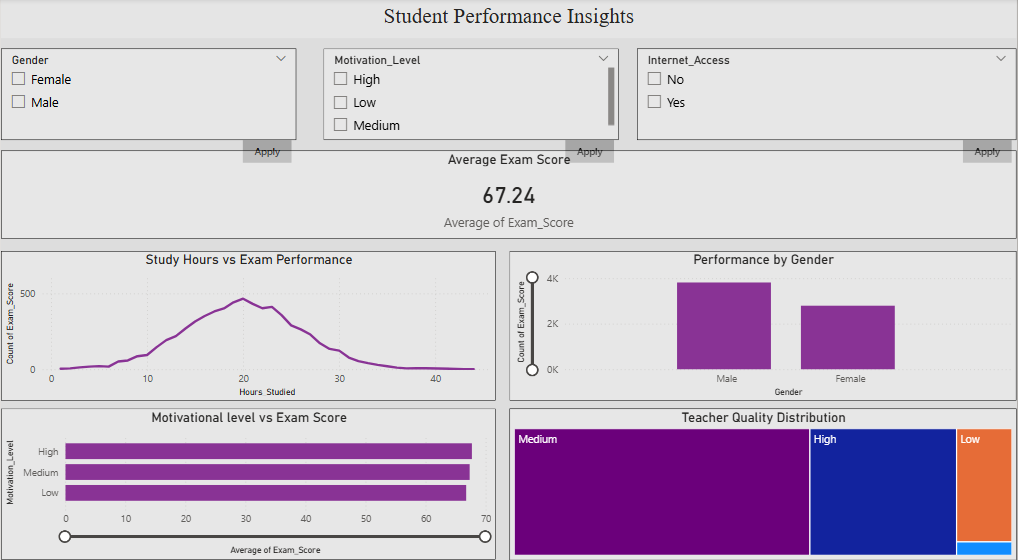

This screenshot's page, from the dashboard's own definition file:
{"tool":"powerbi","page":{"name":"Page 1","canvas":[1280,720],"ordinal":0},"visuals":[{"type":"textbox","box":[0,0,1279.4,49.1],"z":0},{"type":"slicer","fields":{"Values":["StudentPerformanceFactors.Gender"]},"box":[0,62.4,372.3,149.3],"z":1},{"type":"slicer","fields":{"Values":["StudentPerformanceFactors.Motivation_Level"]},"box":[406.3,62.4,372.3,149.3],"z":2},{"type":"slicer","fields":{"Values":["StudentPerformanceFactors.Internet_Access"]},"box":[801.3,62.4,478.1,149.3],"z":3},{"type":"card","title":"Average Exam Score","fields":{"Values":["Avg(StudentPerformanceFactors.Exam_Score)"]},"box":[0,190.9,1279.4,111.5],"z":4},{"type":"lineChart","title":"Study Hours vs Exam Performance","fields":{"Category":["StudentPerformanceFactors.Hours_Studied"],"Y":["CountNonNull(StudentPerformanceFactors.Exam_Score)"]},"box":[0,317.5,623.6,189],"z":5},{"type":"clusteredColumnChart","title":"Performance by Gender","fields":{"Category":["StudentPerformanceFactors.Gender"],"Y":["CountNonNull(StudentPerformanceFactors.Exam_Score)"]},"box":[640.6,317.5,638.7,189],"z":6},{"type":"clusteredBarChart","title":"Motivational level vs Exam Score","fields":{"Category":["StudentPerformanceFactors.Motivation_Level"],"Y":["Avg(StudentPerformanceFactors.Exam_Score)"]},"box":[0,515.9,623.6,190.9],"z":7},{"type":"treemap","title":"Teacher Quality Distribution","fields":{"Values":["CountNonNull(StudentPerformanceFactors.Exam_Score)"],"Group":["StudentPerformanceFactors.Teacher_Quality"]},"box":[641,516,639,191],"z":8}]}

Visuals, with their boxes in screenshot pixels (x1, y1, x2, y2), scaled from the page's 1280x720 canvas onto the 1018x560 screenshot:
textbox: [left=0, top=0, right=1017, bottom=38]
slicer - StudentPerformanceFactors.Gender: [left=0, top=49, right=296, bottom=165]
slicer - StudentPerformanceFactors.Motivation_Level: [left=323, top=49, right=619, bottom=165]
slicer - StudentPerformanceFactors.Internet_Access: [left=637, top=49, right=1017, bottom=165]
"Average Exam Score" card: [left=0, top=148, right=1017, bottom=235]
"Study Hours vs Exam Performance" lineChart: [left=0, top=247, right=496, bottom=394]
"Performance by Gender" clusteredColumnChart: [left=509, top=247, right=1017, bottom=394]
"Motivational level vs Exam Score" clusteredBarChart: [left=0, top=401, right=496, bottom=550]
"Teacher Quality Distribution" treemap: [left=510, top=401, right=1017, bottom=550]
